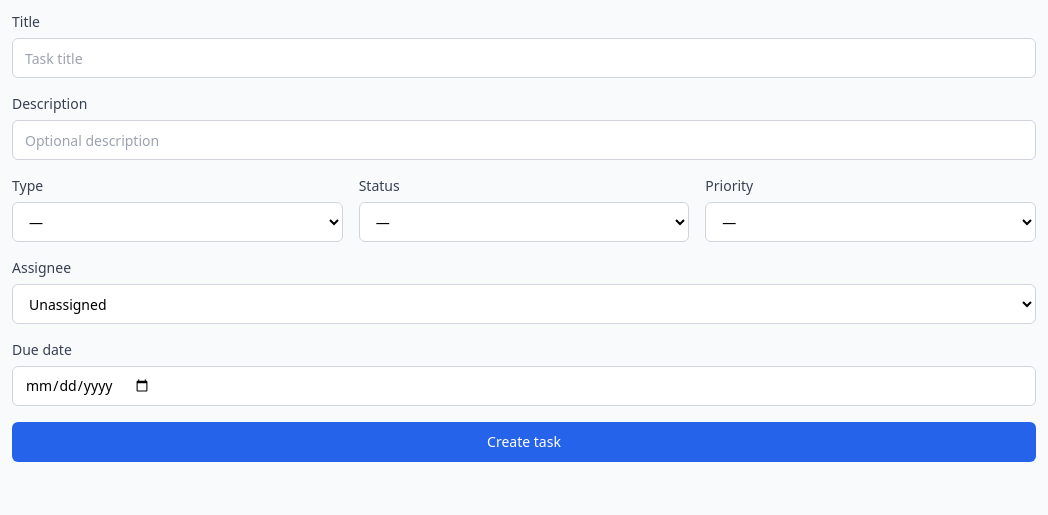
Test case: TaskForm (RHF + zodResolver, a11y, no http) › shows inline aria-invalid and role=alert on validation error
The image size is (1048, 515).
Click the button "Create task": (524, 442) [12, 422, 1036, 462]
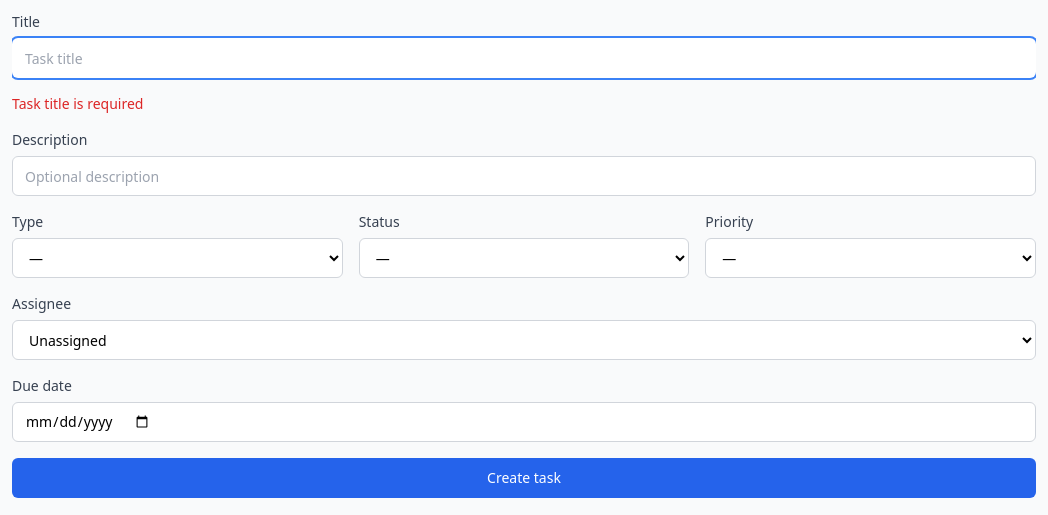
Now the text "Task title is required" is shown, box [12, 94, 144, 113]
